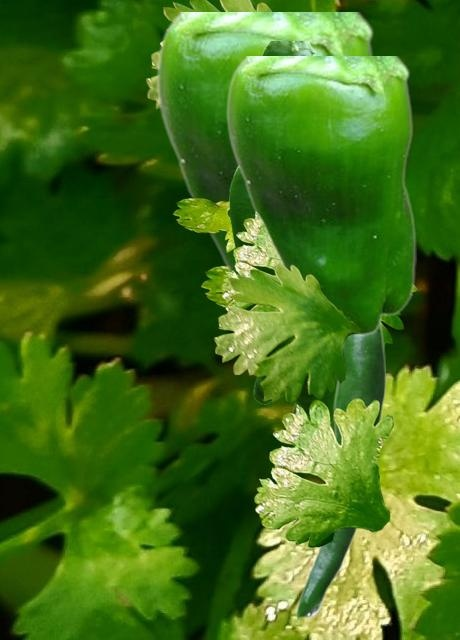green_chili: (155, 12, 376, 272), (225, 56, 415, 335), (294, 320, 384, 618), (229, 167, 283, 403), (261, 41, 316, 55)
